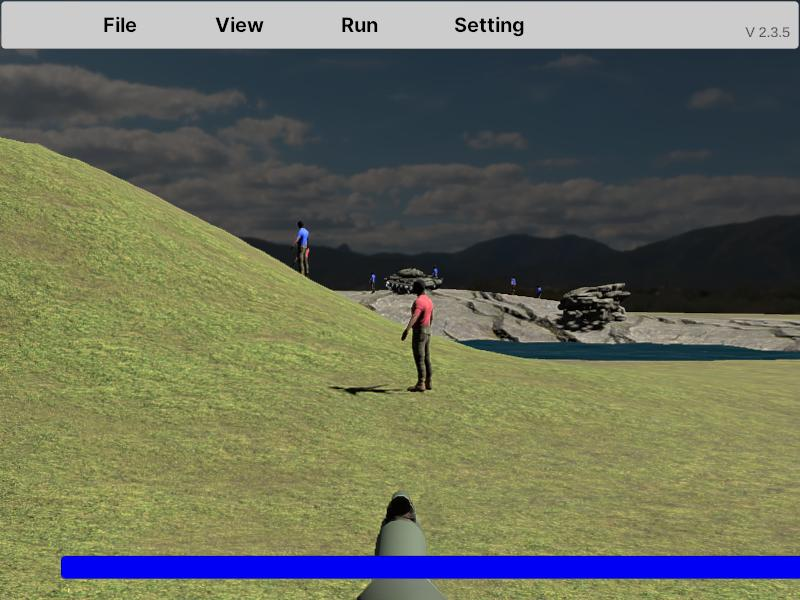Human: (401, 279, 433, 392), (293, 219, 310, 278)
